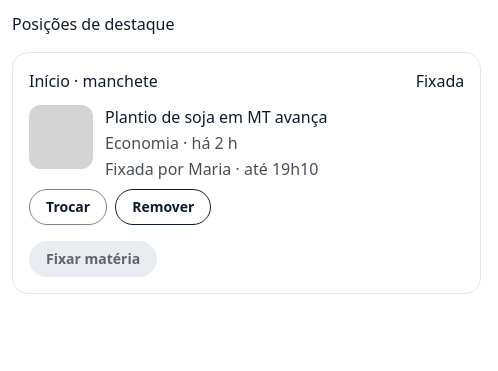
Test case: FeaturedBoard · remover › faltando até 24 h remove direto, sem digitar
Click the button "Remover" at point(163, 207), box [115,189,212,225]
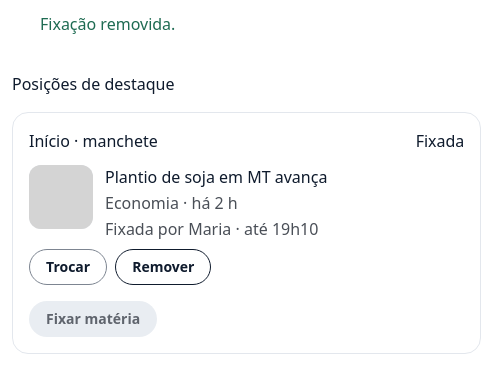
Check: the text "Fixação removida." is shown, box [12,12,175,36]
